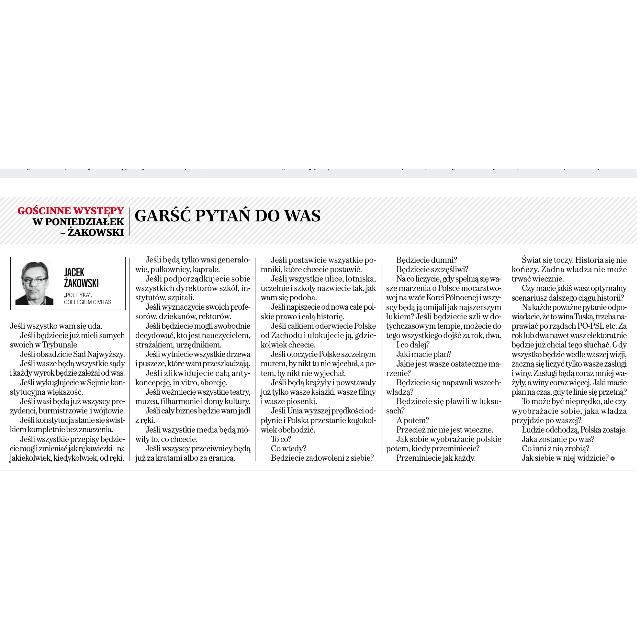author: (62, 263, 106, 291)
body: (511, 250, 632, 466), (132, 252, 254, 466), (384, 250, 504, 466), (260, 251, 378, 465), (6, 318, 128, 466)
title: (131, 202, 335, 228)
